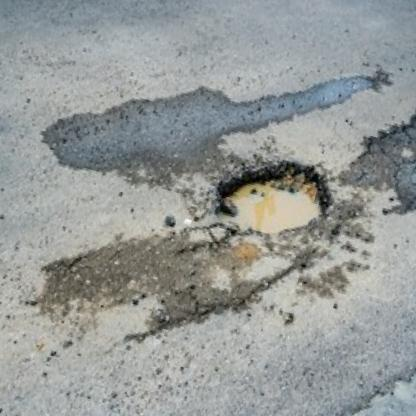pothole: (207, 145, 338, 254)
